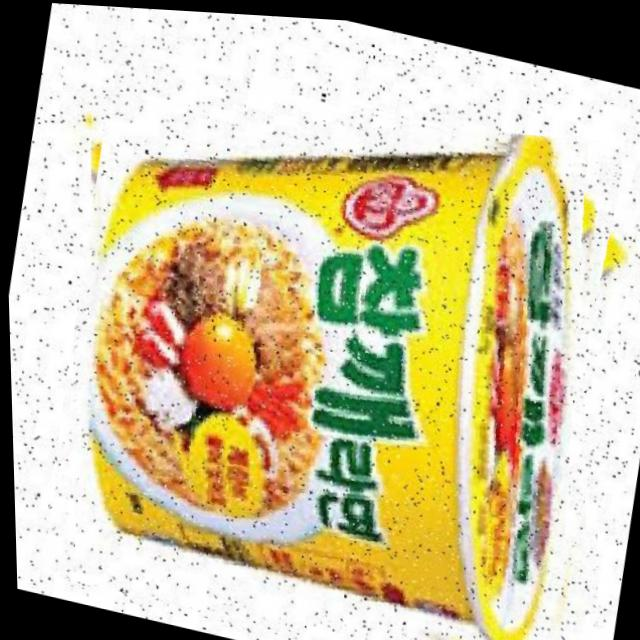Miscellaneous: (22, 39, 640, 640)
